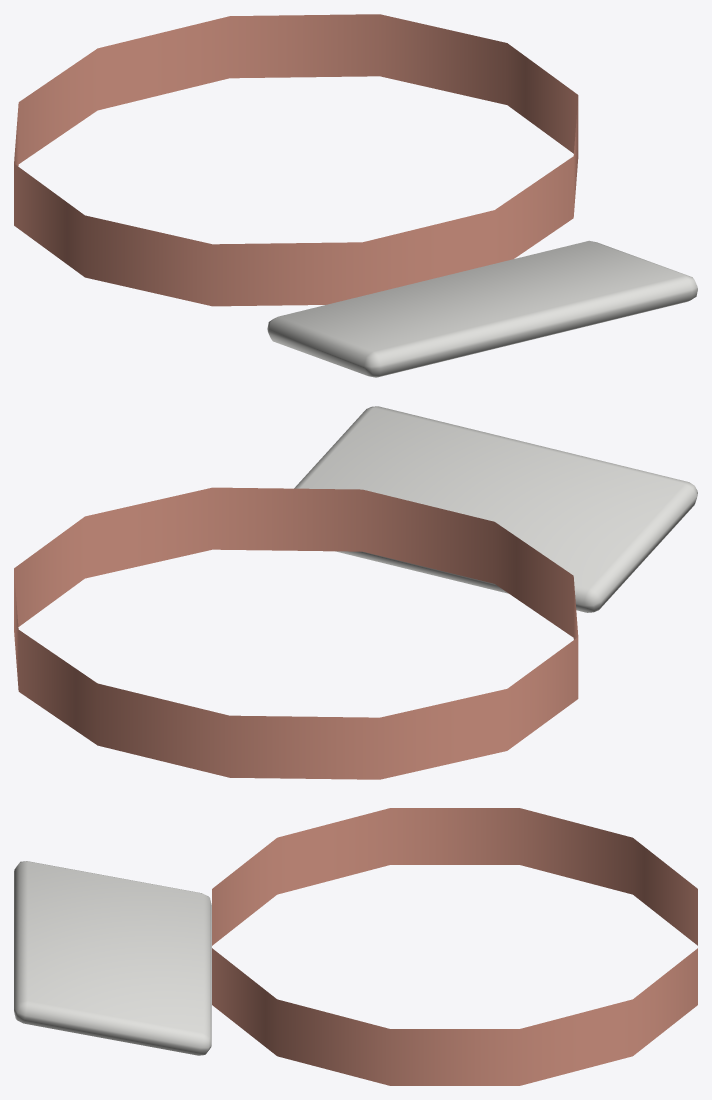
File: CharHatVisor.fbx
The picture shows the model from 3 angles, top to bottom: view 1: azimuth 30°, elevation 25°; view 2: azimuth 150°, elevation 25°; view 3: azimuth 270°, elevation 25°; orthographic projection. The views are drawn at different scales.
Visible parts, largest first — view 1: CharHatVisor; view 2: CharHatVisor; view 3: CharHatVisor.
Boxes of the visible parts, x1,y1,x2,y2 form: CharHatVisor: [14, 14, 697, 377]; CharHatVisor: [14, 406, 697, 779]; CharHatVisor: [14, 808, 697, 1085].
Size of the model in its own units: 0.4153 by 0.0589 by 0.5437.
